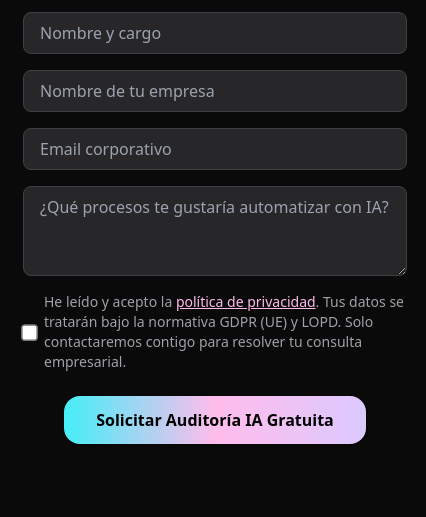
Test: business form › warns on the page and does not pretend it worked when the lead is not stored
In the field labelled "Nombre y cargo": {"x": 215, "y": 33} [23,12,407,54], type "Ana CEO"
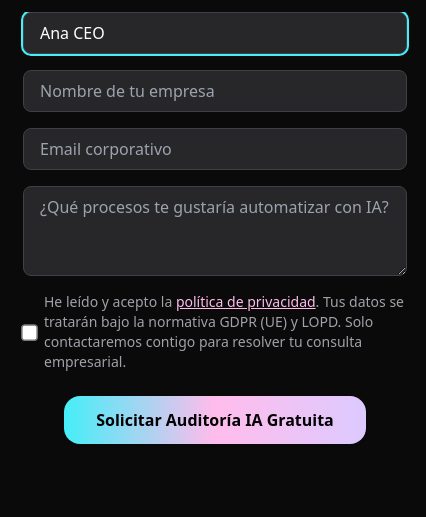
In the field labelled "Nombre de tu empresa": {"x": 215, "y": 91} [23,70,407,112], type "Acme"
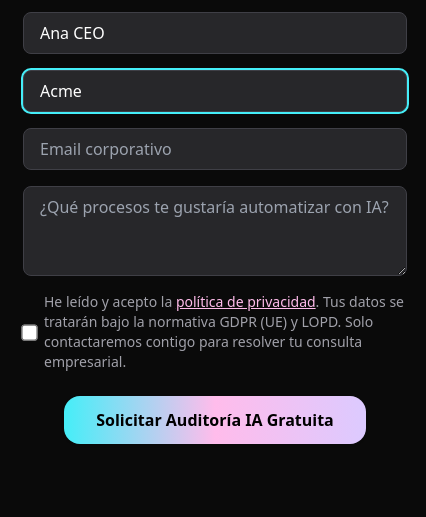
In the field labelled "Email corporativo": {"x": 215, "y": 149} [23,128,407,170], type "ana@acme.es"
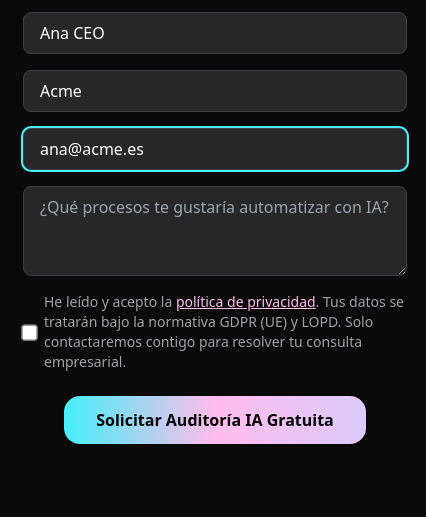
In the text box labelled "¿Qué procesos te gustaría automatizar con IA?": {"x": 215, "y": 231} [23,186,407,276], type "Facturas"
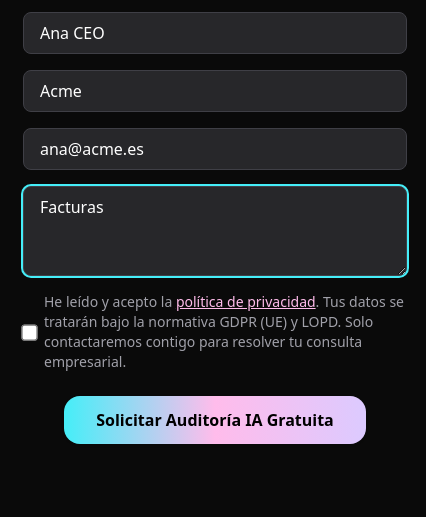
Click the checkbox labelled "He leído y acepto": {"x": 30, "y": 332} [21,324,38,340]
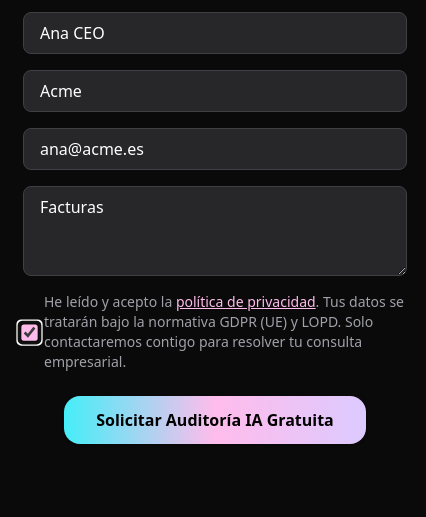
Click the button "Solicitar Auditoría IA Gratuita": {"x": 215, "y": 420} [64,396,366,444]
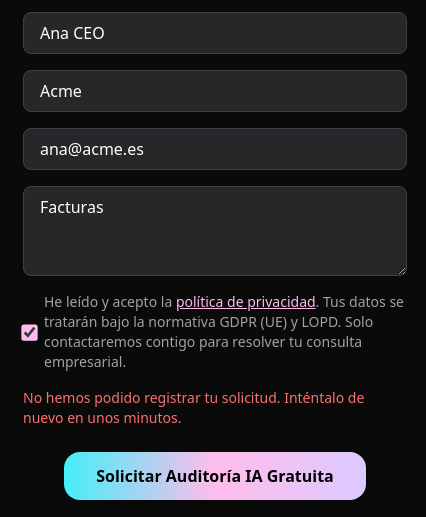
Expected: the message shows "No hemos podido registrar", [23,388,364,427]
